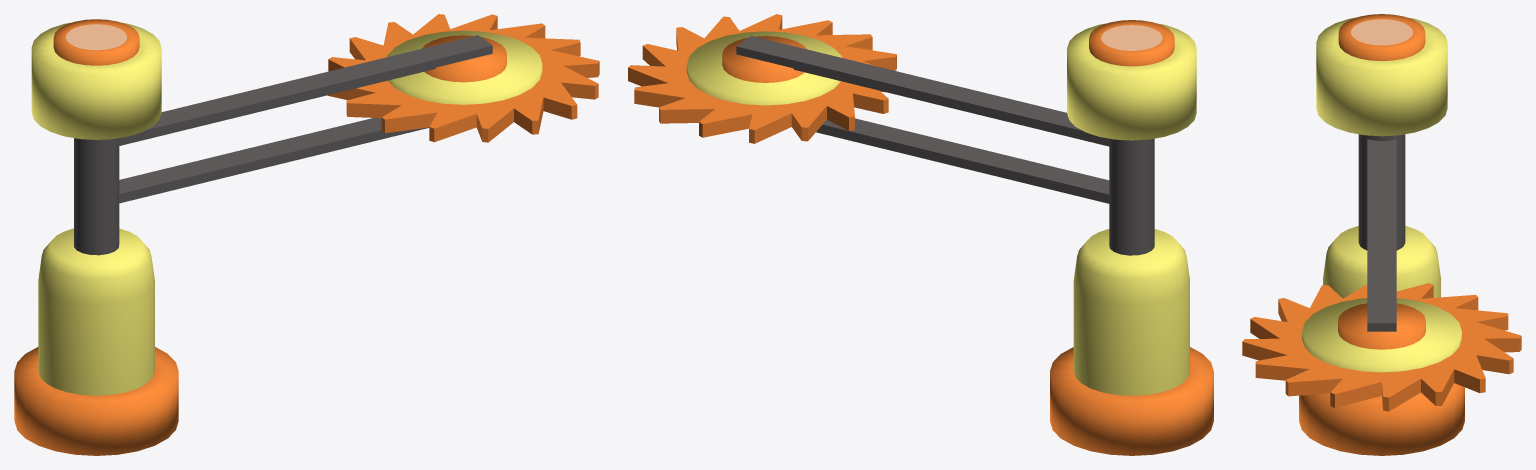
The model's file is Obstacle 16 V3.fbx.
3 renders of one model, left to right at view 1: azimuth 30°, elevation 25°; view 2: azimuth 150°, elevation 25°; view 3: azimuth 270°, elevation 25°, orthographic.
Parts seen in each view (by area): view 1: O16 Part 3, O16 Part 1, O16 Part 2; view 2: O16 Part 3, O16 Part 1, O16 Part 2; view 3: O16 Part 3, O16 Part 1, O16 Part 2.
Part boxes in pixels (x1=…): O16 Part 3: x1=14, y1=19, x2=178, y2=455; O16 Part 1: x1=327, y1=14, x2=599, y2=142; O16 Part 2: x1=74, y1=35, x2=492, y2=255; O16 Part 3: x1=1050, y1=20, x2=1213, y2=455; O16 Part 1: x1=628, y1=14, x2=896, y2=143; O16 Part 2: x1=736, y1=36, x2=1154, y2=255; O16 Part 3: x1=1299, y1=14, x2=1464, y2=455; O16 Part 1: x1=1242, y1=283, x2=1521, y2=411; O16 Part 2: x1=1358, y1=134, x2=1405, y2=331.
Size of the model in its own units: 177 by 116 by 75.75.
Materials: 1 (1 with a texture image).
